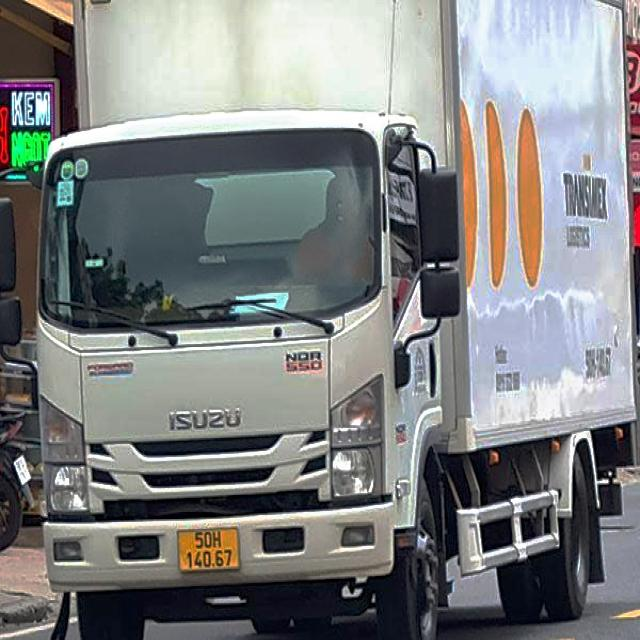license_plate: (180, 527, 242, 573)
